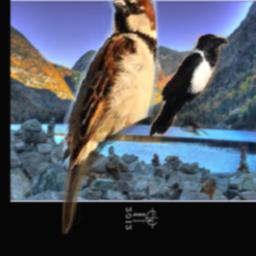Crow: (150, 34, 229, 136)
Swallow: (61, 0, 160, 235)
